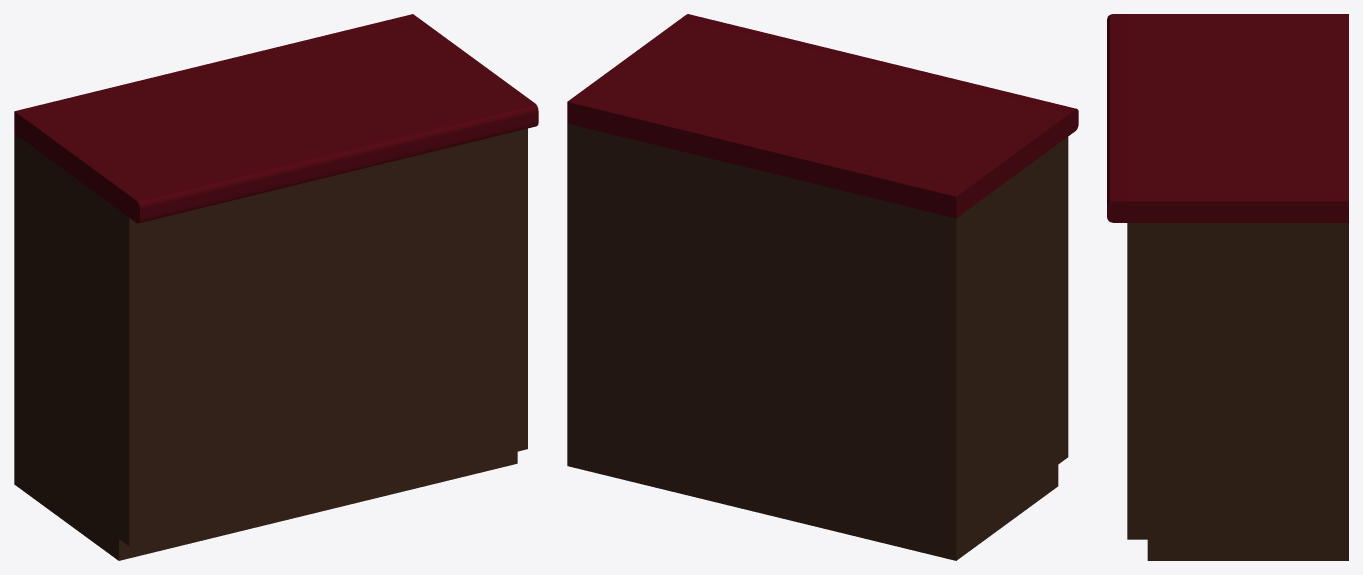
File: SM_ComptoirSansTiroir.fbx
3 renders of one model, left to right at view 1: azimuth 30°, elevation 25°; view 2: azimuth 150°, elevation 25°; view 3: azimuth 270°, elevation 25°, orthographic. The views are drawn at different scales.
Parts seen in each view (by area): view 1: SM_ComptoirSanTiroir; view 2: SM_ComptoirSanTiroir; view 3: SM_ComptoirSanTiroir.
Boxes of the visible parts, box(x1,y1,x2,y2) form: SM_ComptoirSanTiroir: box(14, 14, 538, 560); SM_ComptoirSanTiroir: box(567, 14, 1078, 560); SM_ComptoirSanTiroir: box(1107, 14, 1348, 560).
Size of the model in its own units: 93.93 by 84.02 by 51.22.
